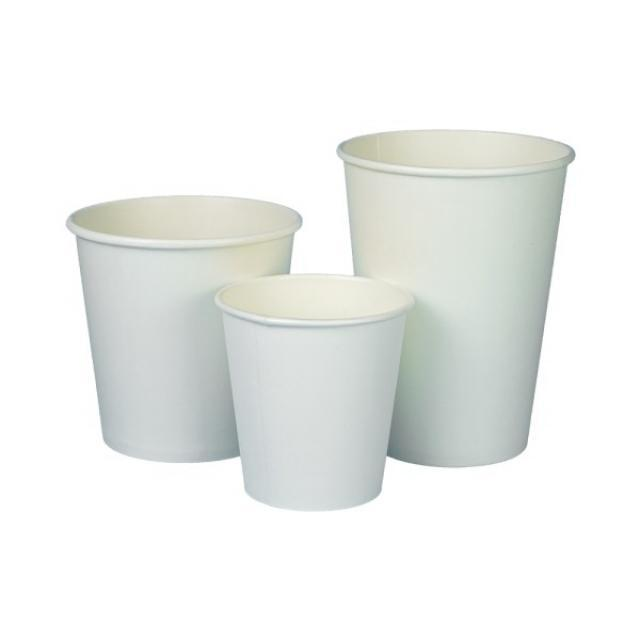trash: (336, 127, 576, 469), (63, 191, 304, 465), (211, 271, 421, 514)
